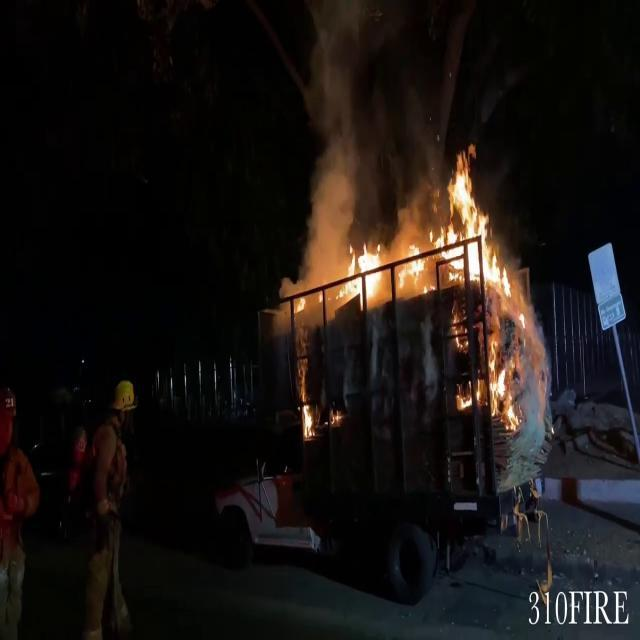Fire: (437, 141, 528, 427), (338, 234, 388, 306), (394, 242, 430, 296)
Smoke: (294, 0, 440, 252)
